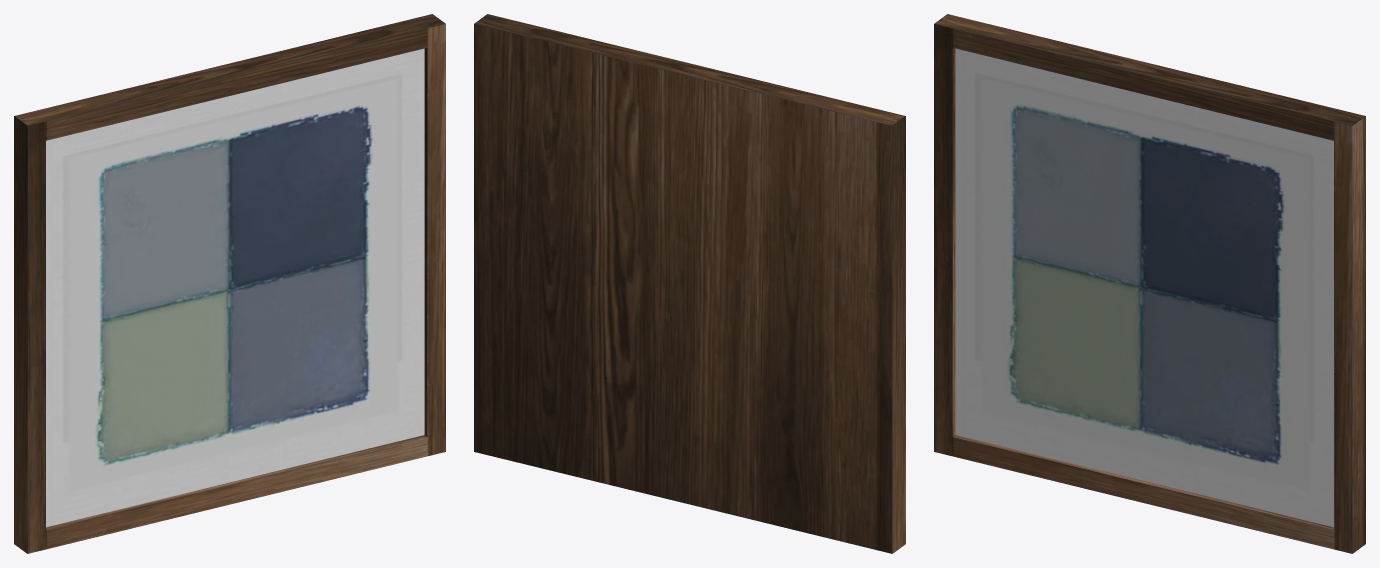
The model's file is four_colors.glb.
The picture shows the model from 3 angles, left to right: view 1: azimuth 30°, elevation 25°; view 2: azimuth 150°, elevation 25°; view 3: azimuth 330°, elevation 25°; orthographic projection.
Parts seen in each view (by area): view 1: Plano.001_Materiais.003_0; view 2: Plano.001_Materiais.003_0; view 3: Plano.001_Materiais.003_0.
Boxes of the visible parts, x1=… form: Plano.001_Materiais.003_0: x1=14, y1=14, x2=445, y2=553; Plano.001_Materiais.003_0: x1=474, y1=14, x2=905, y2=553; Plano.001_Materiais.003_0: x1=934, y1=14, x2=1365, y2=553.
Bounding box in the file's own units: 0.5739 × 0.5612 × 0.0319.
1 material, 1 textured.
